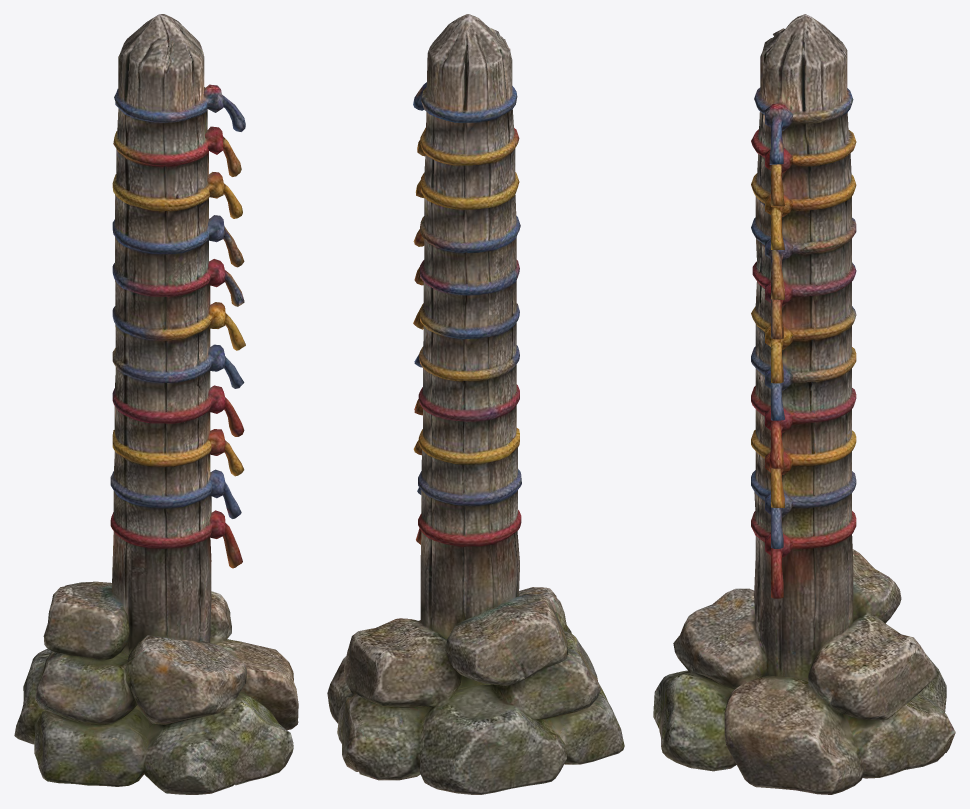
The model's file is cw_thread_post.glb.
The picture shows the model from 3 angles, left to right: view 1: azimuth 30°, elevation 25°; view 2: azimuth 150°, elevation 25°; view 3: azimuth 270°, elevation 25°; orthographic projection.
Visible parts, largest first — view 1: cw_thread_post; view 2: cw_thread_post; view 3: cw_thread_post.
Boxes of the visible parts, x1=… form: cw_thread_post: x1=14, y1=14, x2=298, y2=794; cw_thread_post: x1=327, y1=14, x2=624, y2=794; cw_thread_post: x1=653, y1=14, x2=955, y2=794.
Bounding box in the file's own units: 0.9159 × 2.4 × 0.9159.
Materials: 1 (1 with a texture image).
